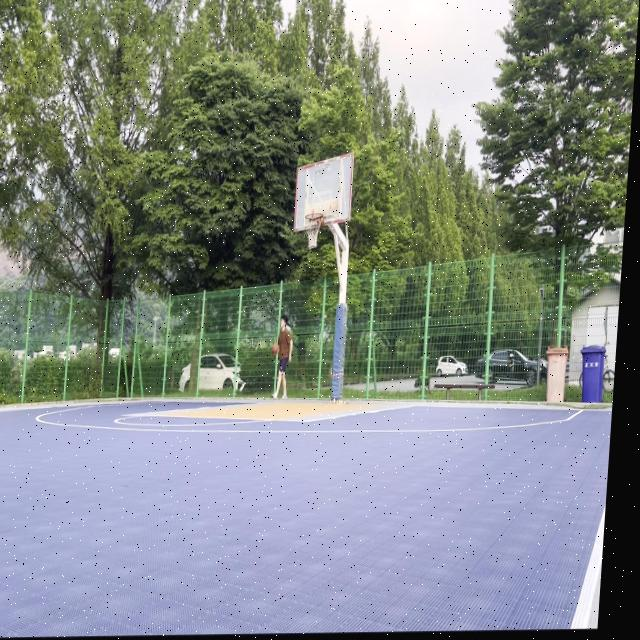basketball: (272, 343, 279, 355)
hoop: (303, 212, 324, 251)
